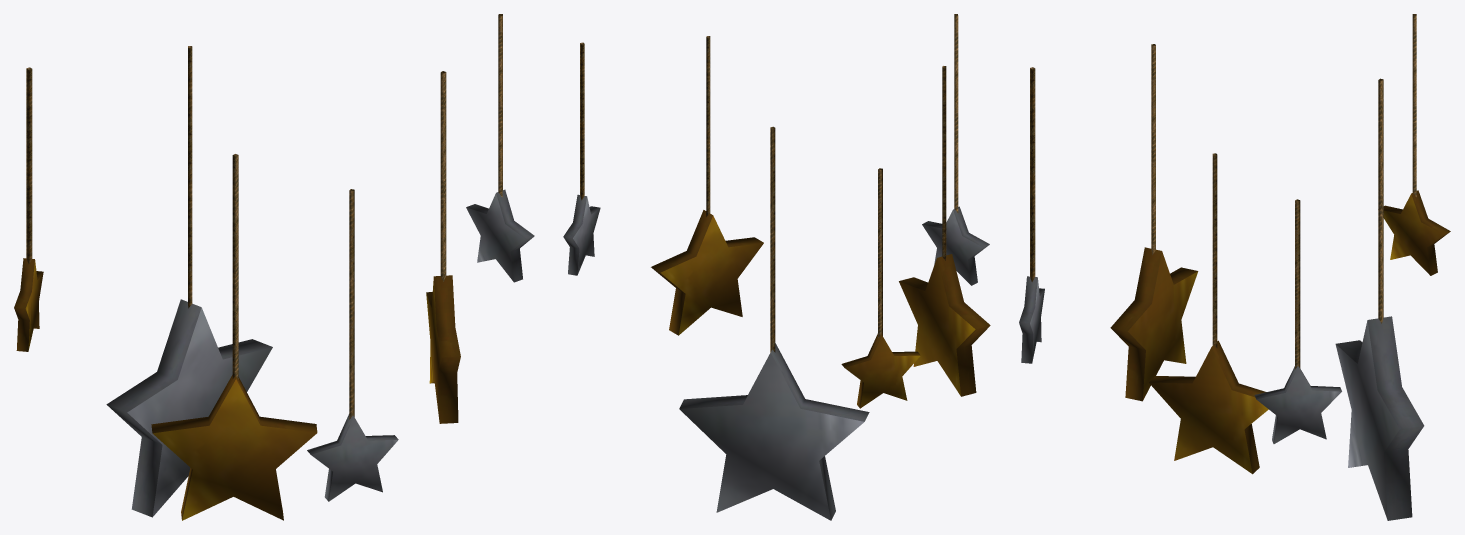
Rendered from KM_CHRISTMAS_PRESENT_STARS.glb.
3 renders of one model, left to right at view 1: azimuth 30°, elevation 25°; view 2: azimuth 150°, elevation 25°; view 3: azimuth 270°, elevation 25°, orthographic. The views are drawn at different scales.
Parts seen in each view (by area): view 1: Mesh; view 2: Mesh; view 3: Mesh.
Boxes of the visible parts, <box> form: Mesh: <box>14,14,534,520</box>; Mesh: <box>563,14,990,520</box>; Mesh: <box>1019,14,1450,520</box>.
Size of the model in its own units: 1.48 by 1.4 by 1.32.
2 materials, 2 textured.
